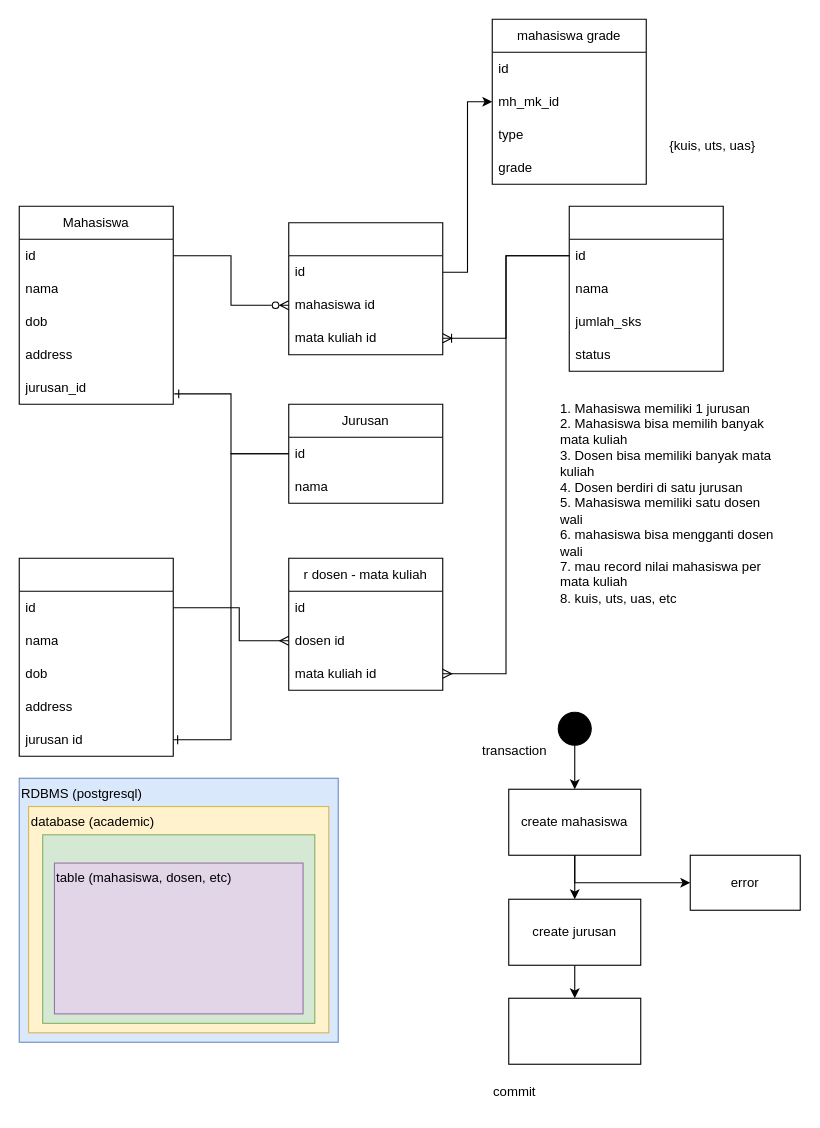
The diagram is 820 pixels wide and 1128 high, and some of its shapes have lost their labels. The box of each missing label's shape, as (x1, y1, x2, y2) in pixels:
create r_mahasiswa_ mata_kuliah: (508, 997, 641, 1064)
Dosen: (18, 557, 173, 756)
Mata Kuliah: (568, 205, 723, 371)
r mahasiswa - mata kuliah: (288, 222, 443, 355)
schema (public): (42, 834, 315, 1023)
